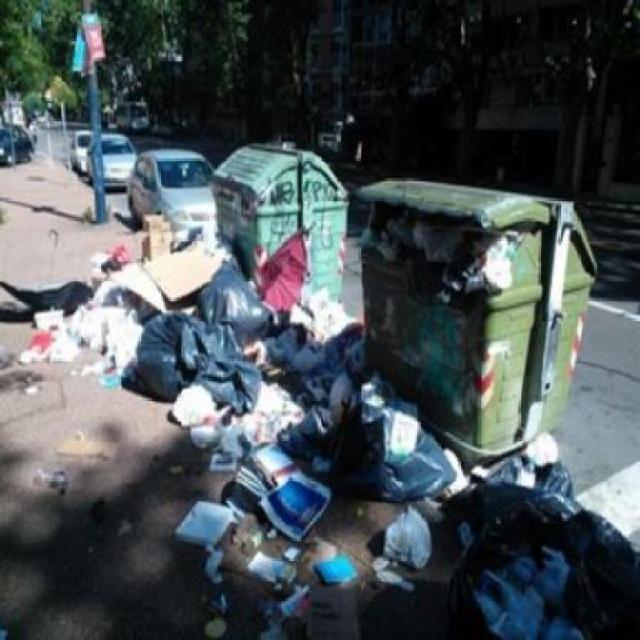garbage: (207, 372, 640, 639), (39, 241, 370, 464), (354, 197, 511, 298)
